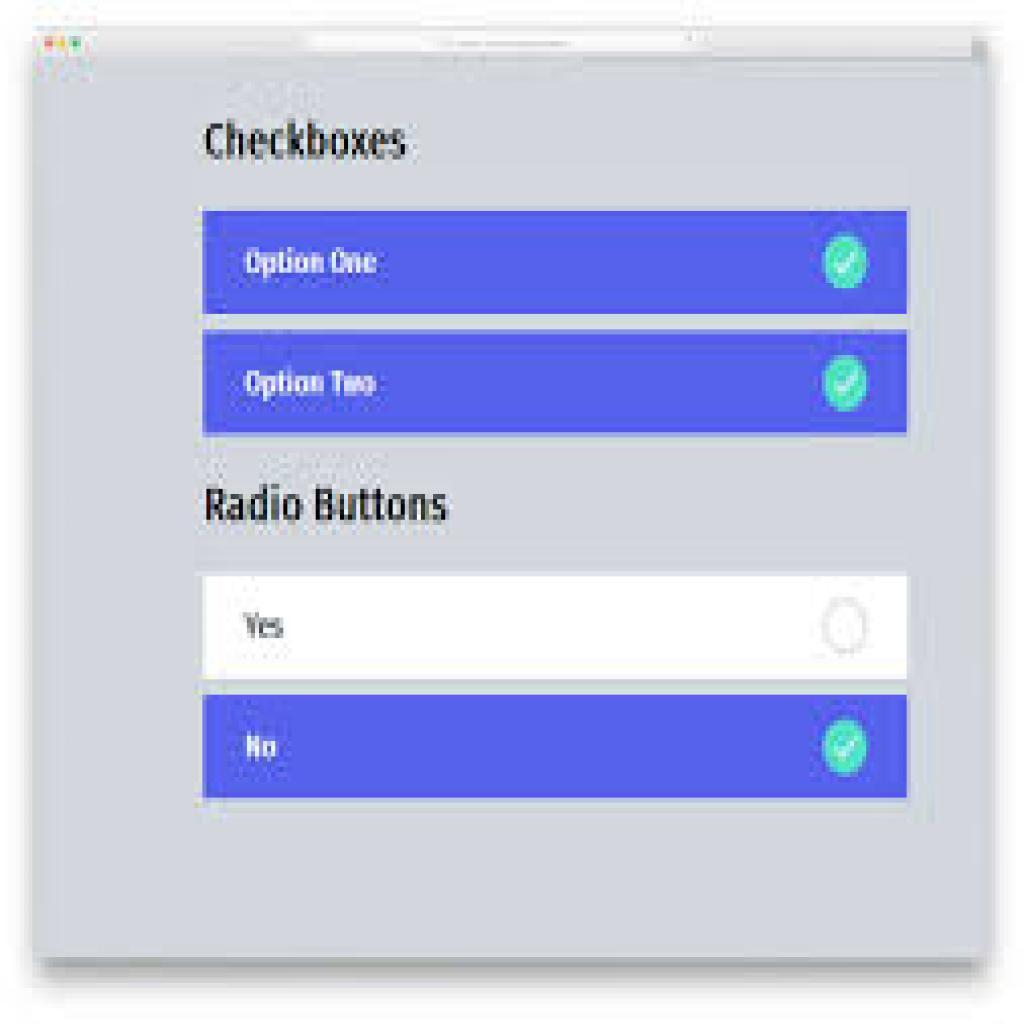checkbox: (821, 234, 872, 292), (822, 354, 872, 412), (824, 718, 870, 777)
label: (204, 481, 454, 531), (201, 117, 413, 168), (242, 362, 384, 406), (242, 241, 380, 283), (238, 608, 293, 650), (244, 732, 280, 765)
radio: (824, 597, 868, 657)
